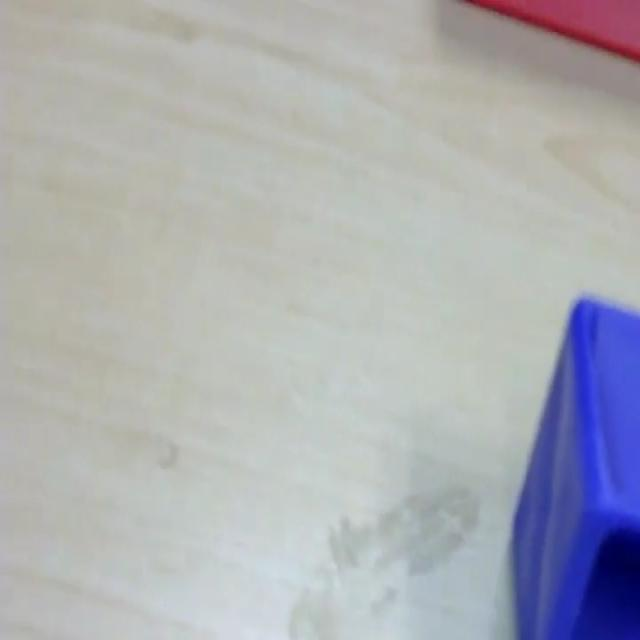blue_block: (508, 292, 638, 636)
